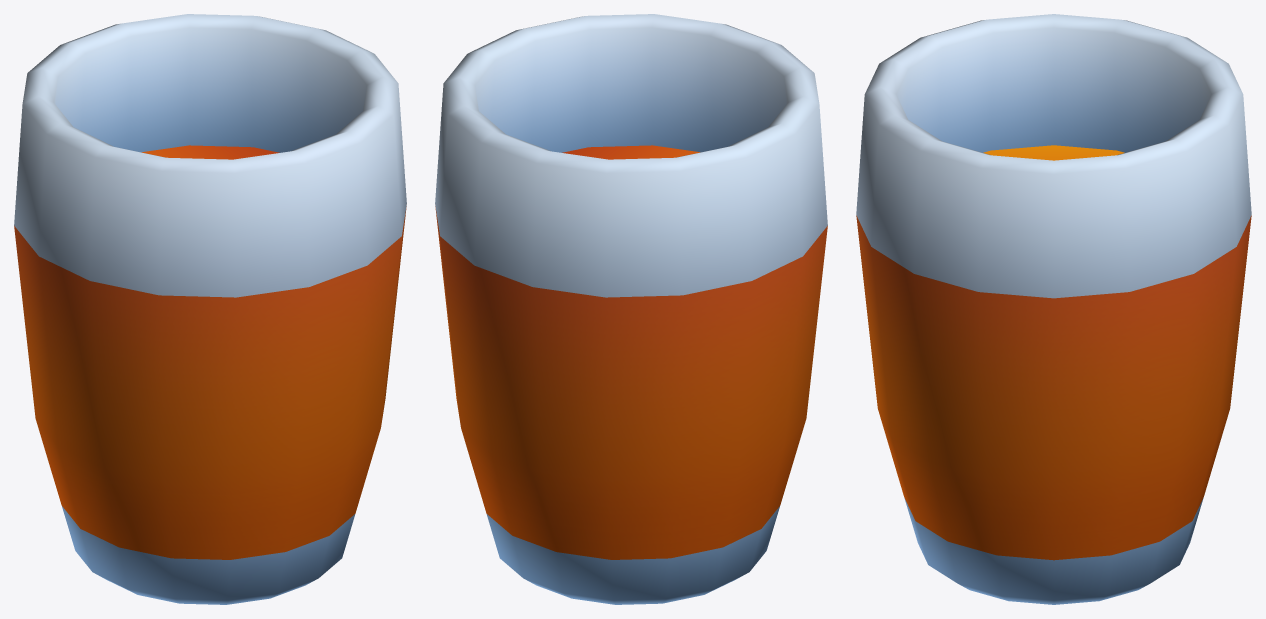
Rendered from cocktail_006.fbx.
3 views of the same model, side by side, from view 1: azimuth 30°, elevation 25°; view 2: azimuth 150°, elevation 25°; view 3: azimuth 270°, elevation 25° (orthographic).
Visible parts, largest first — view 1: cocktail_006; view 2: cocktail_006; view 3: cocktail_006.
Part boxes in pixels (x1,y1,x2,y2): cocktail_006: (14, 14, 406, 604); cocktail_006: (435, 14, 827, 604); cocktail_006: (856, 14, 1251, 604).
Bounding box in the file's own units: 5.96 × 5.96 × 7.77.
